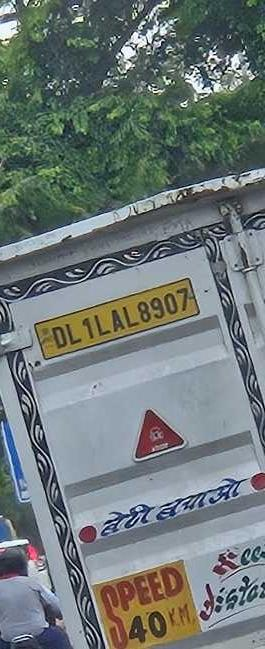License plate: (35, 278, 199, 360)
